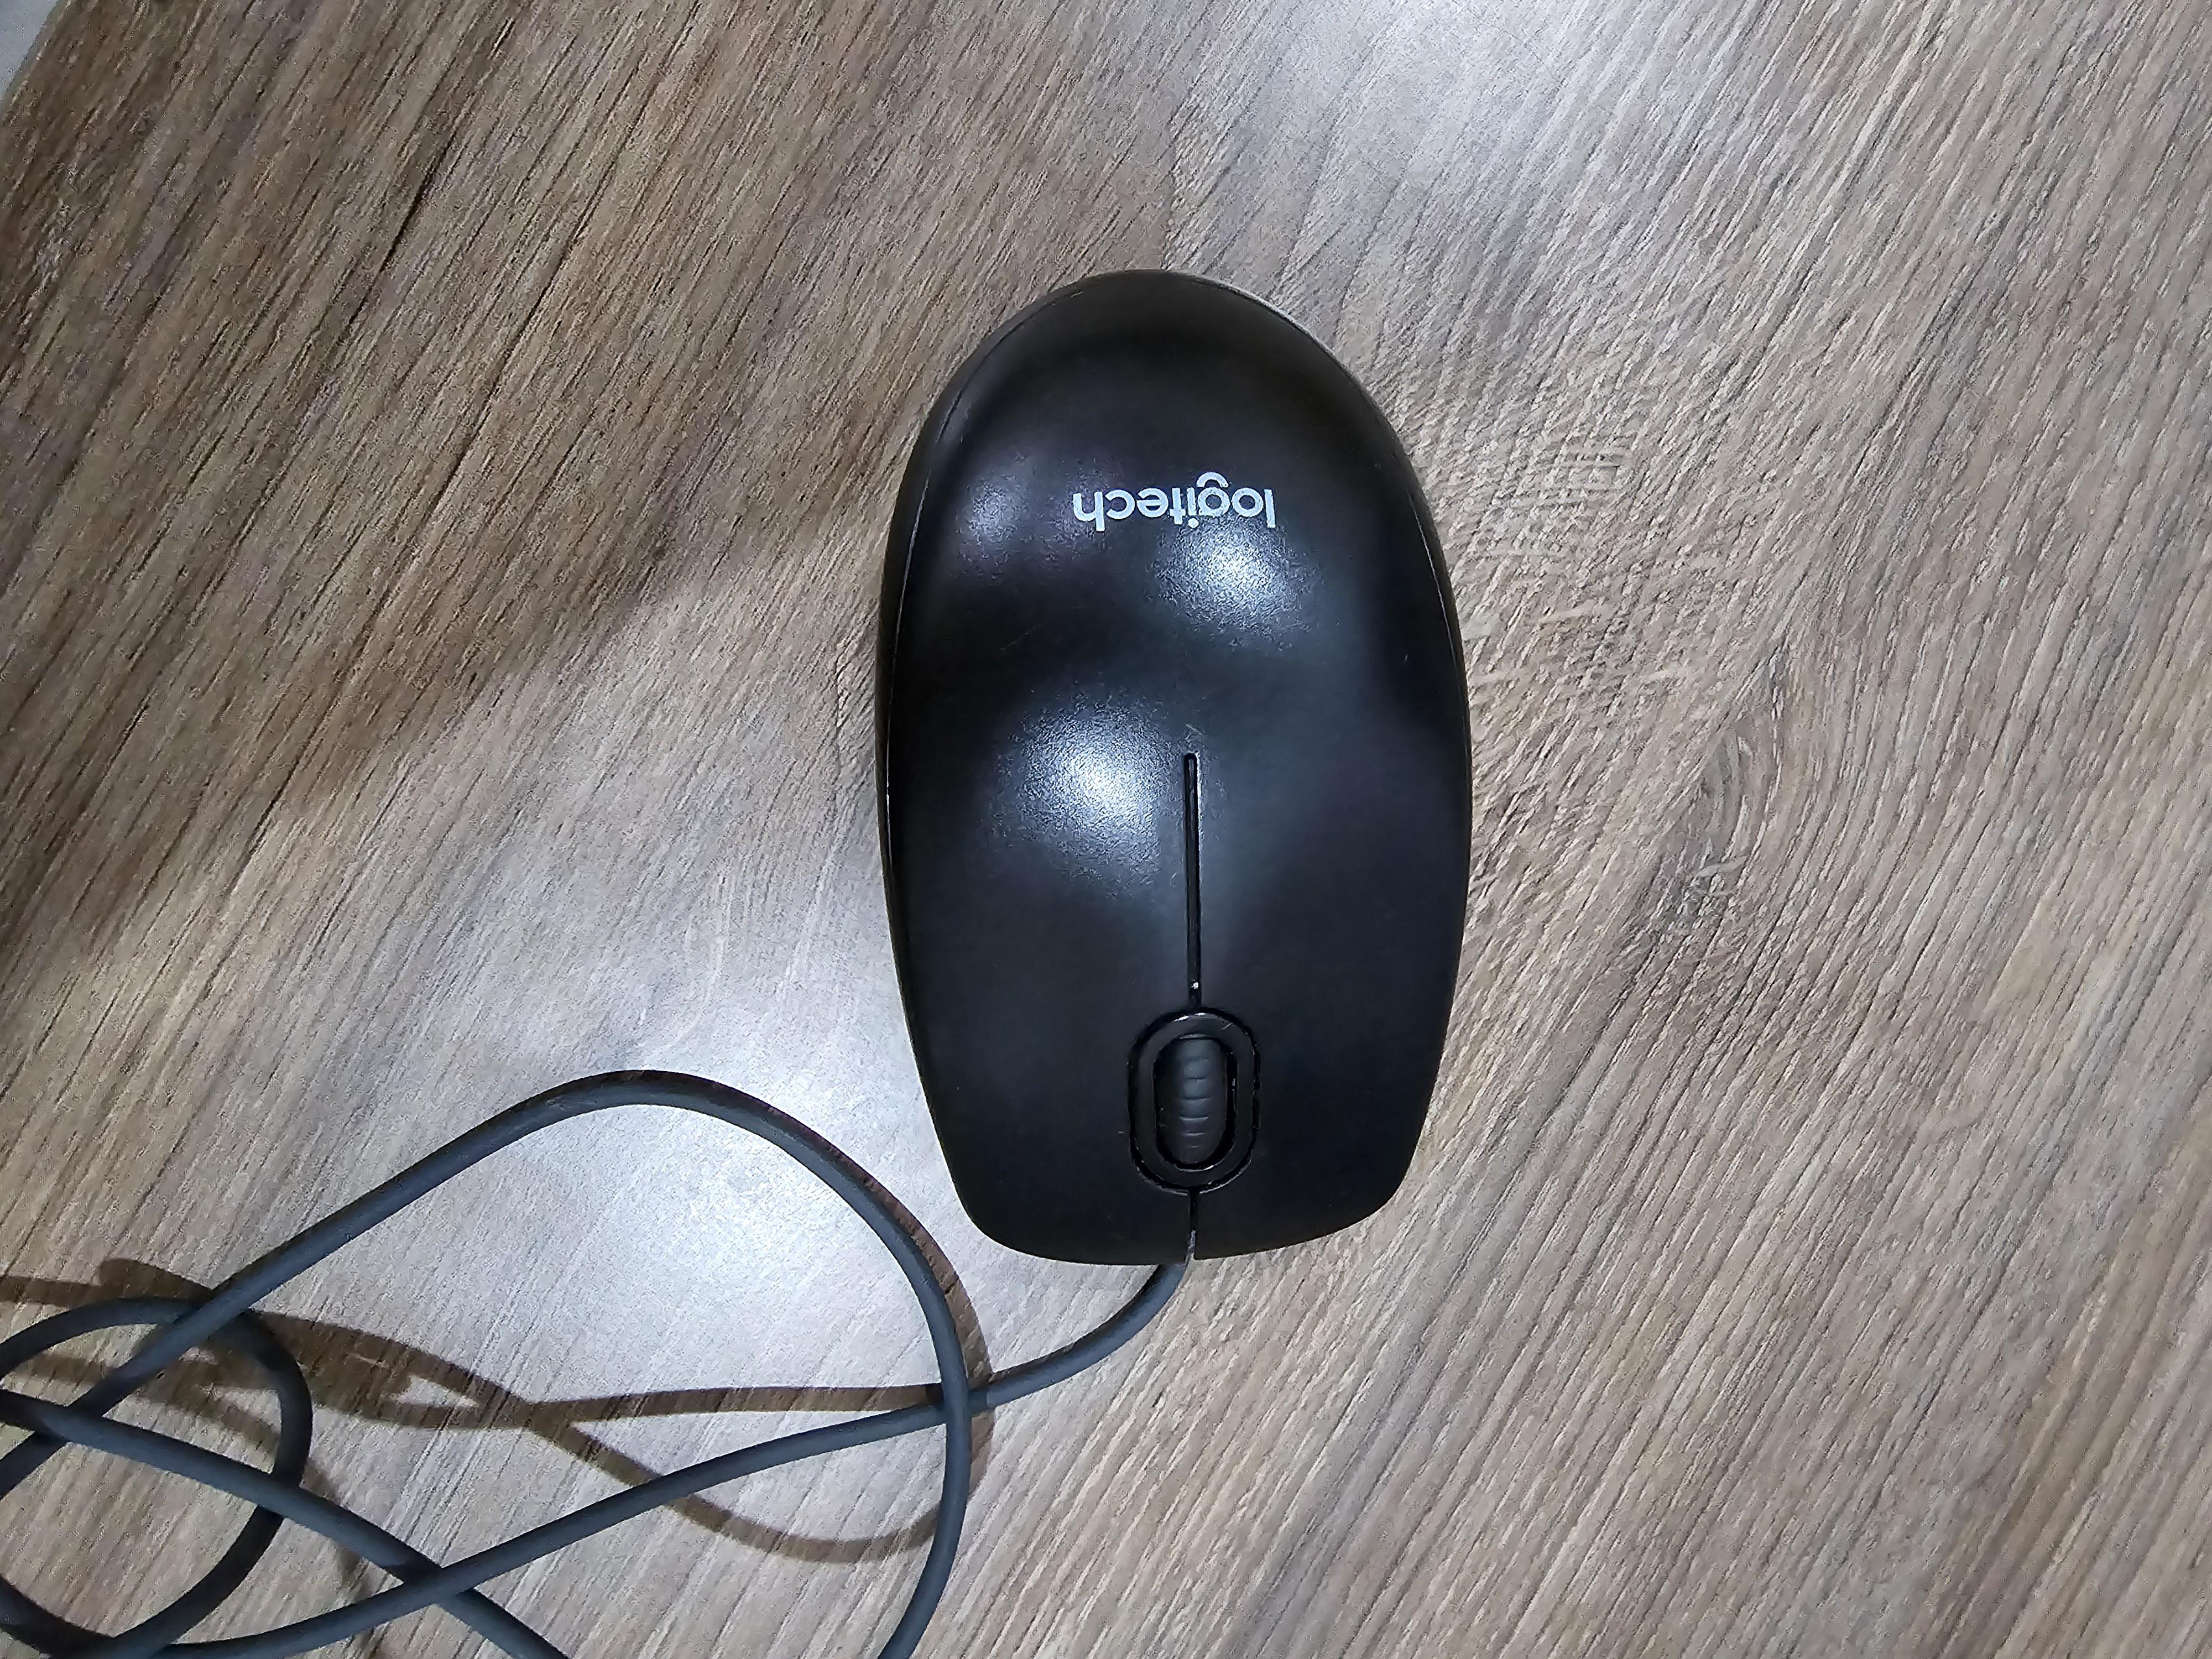mouse: (873, 265, 1475, 1267)
